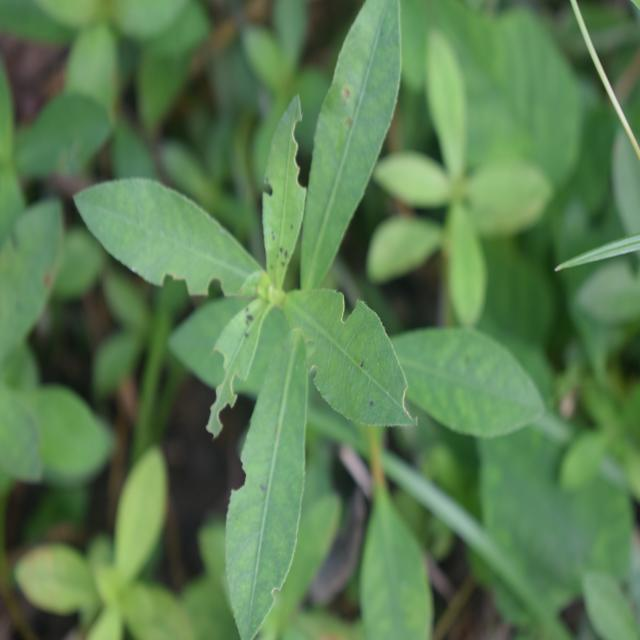Alligatorweed: (110, 30, 437, 601)
